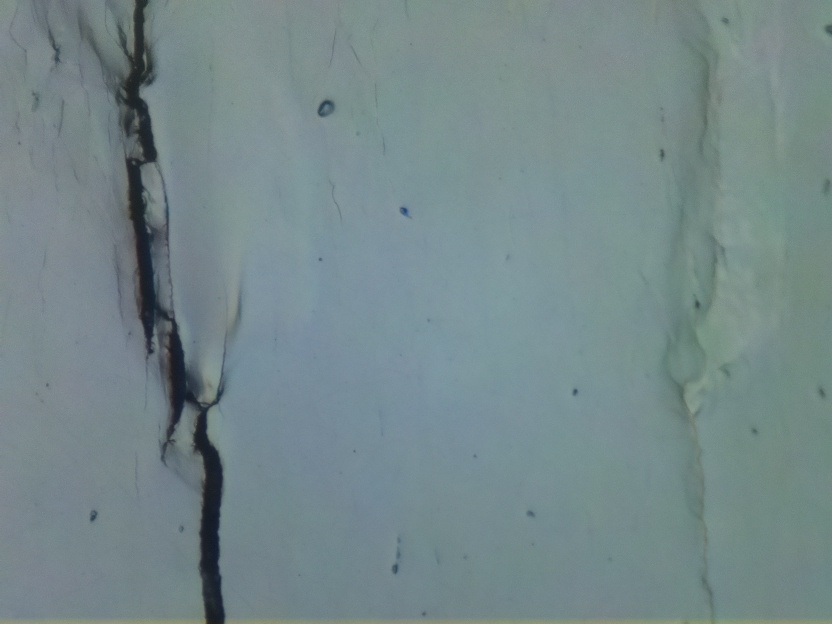crack: (113, 0, 232, 624)
